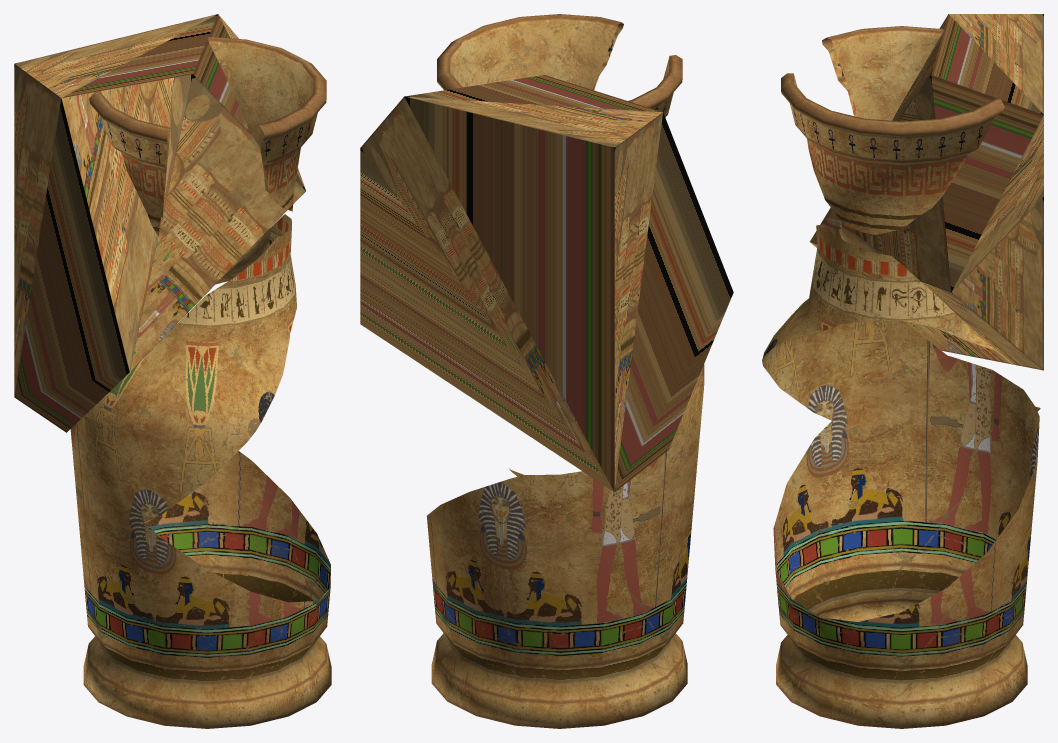
Rendered from s1-5pieces.fbx.
3 renders of one model, left to right at view 1: azimuth 30°, elevation 25°; view 2: azimuth 150°, elevation 25°; view 3: azimuth 270°, elevation 25°, orthographic. The views are drawn at different scales.
Visible parts, largest first — view 1: vase_A_S1_cell.002, vase_A_S1_cell, vase_A_S1_cell.005, vase_A_S1_cell.001, vase_A_S1_cell.004, vase_A_S1_cell.003; view 2: vase_A_S1_cell.002, vase_A_S1_cell, vase_A_S1_cell.001, vase_A_S1_cell.005, vase_A_S1_cell.004; view 3: vase_A_S1_cell, vase_A_S1_cell.002, vase_A_S1_cell.005, vase_A_S1_cell.001, vase_A_S1_cell.004.
Part boxes in pixels (bbox=[...]): vase_A_S1_cell.002: bbox=[14, 14, 305, 432]; vase_A_S1_cell: bbox=[70, 429, 331, 728]; vase_A_S1_cell.005: bbox=[71, 214, 296, 521]; vase_A_S1_cell.001: bbox=[207, 36, 326, 211]; vase_A_S1_cell.004: bbox=[89, 91, 170, 236]; vase_A_S1_cell.003: bbox=[225, 227, 272, 275]; vase_A_S1_cell.002: bbox=[360, 75, 733, 492]; vase_A_S1_cell: bbox=[426, 453, 697, 728]; vase_A_S1_cell.001: bbox=[437, 14, 623, 90]; vase_A_S1_cell.005: bbox=[665, 364, 704, 457]; vase_A_S1_cell.004: bbox=[628, 55, 682, 117]; vase_A_S1_cell: bbox=[773, 356, 1039, 728]; vase_A_S1_cell.002: bbox=[810, 14, 1043, 370]; vase_A_S1_cell.005: bbox=[762, 224, 996, 420]; vase_A_S1_cell.001: bbox=[781, 73, 1004, 235]; vase_A_S1_cell.004: bbox=[822, 26, 943, 120].
Bounding box in the file's own units: 10749 × 24640 × 10493.
